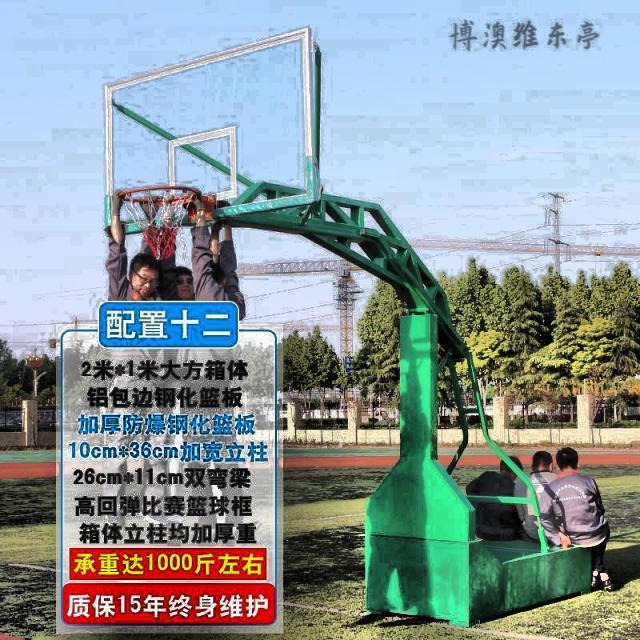rim: (119, 184, 198, 260)
